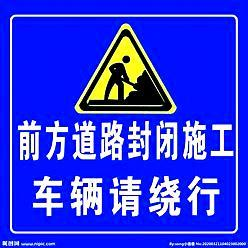sign: (5, 3, 240, 238)
